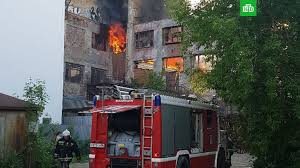fire: (152, 48, 189, 76), (99, 25, 129, 57)
